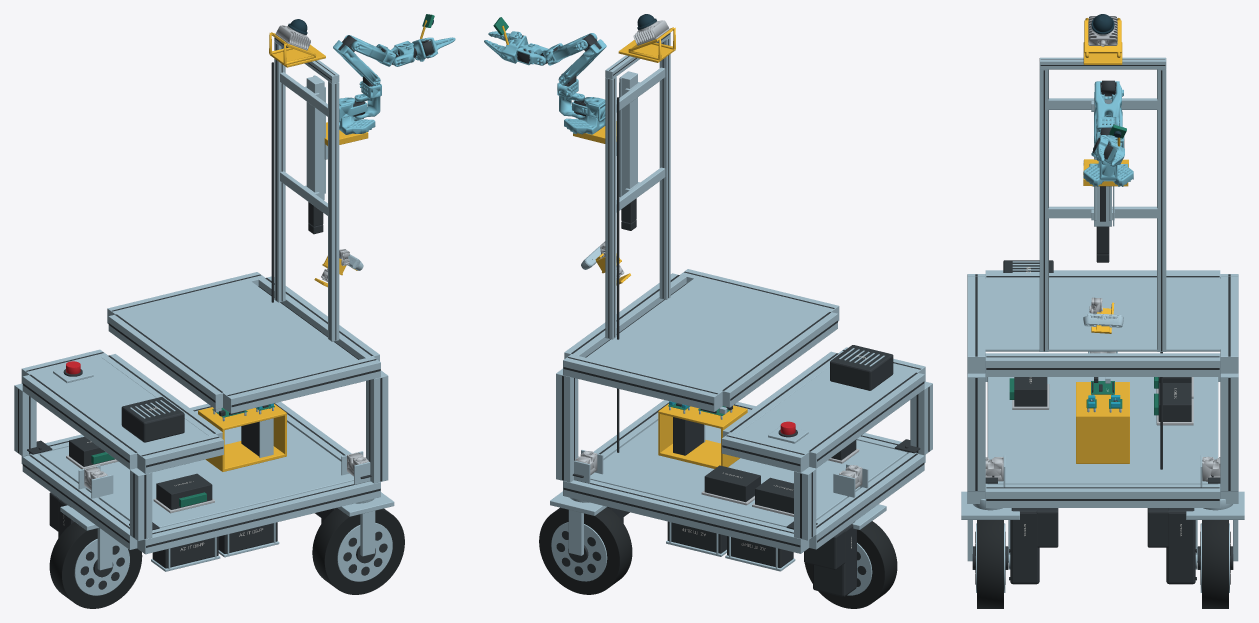
File: robot_web.glb
3 views of the same model, side by side, from view 1: azimuth 30°, elevation 25°; view 2: azimuth 150°, elevation 25°; view 3: azimuth 270°, elevation 25° (orthographic). The views are drawn at different scales.
Parts seen in each view (by area): view 1: Forward equipment deck, Base tray, 4040_horizontal, Rear electrical deck, Tire.001, 4040_horizontal.004, Tire.002, 2020_front_support, 4040_cross.004, 4040_cross, 2020_front_support.001, 4040_cross.002 (+29 smaller); view 2: Forward equipment deck, Base tray, Rear electrical deck, 4040_horizontal.001, Tire, 4040_horizontal.005, 2020_front_support.001, 4040_cross.004, 4040_cross, 2020_front_support, Tire.002, 4040_cross.002 (+29 smaller); view 3: Base tray, Forward equipment deck, 4040_cross.005, 4040_cross.001, 2020_front_support, 2020_front_support.001, Tire, Tire.001, Printed common Lift side.001, 4040_upright.002, 4040_upright.003, GFS5G30FR metal housing (+33 smaller).
Part boxes in pixels (x1,y1,x2,y2): Forward equipment deck: (119, 281, 357, 391); Base tray: (40, 422, 353, 527); 4040_horizontal: (137, 481, 380, 554); Rear electrical deck: (30, 357, 208, 455); Tire.001: (312, 508, 404, 594); 4040_horizontal.004: (223, 356, 380, 413); Tire.002: (49, 522, 142, 608); 2020_front_support: (328, 81, 339, 341); 4040_cross.004: (108, 313, 229, 409); 4040_cross: (22, 454, 137, 549); 2020_front_support.001: (274, 42, 285, 302); 4040_cross.002: (22, 374, 143, 469); Forward equipment deck: (586, 278, 826, 390); Base tray: (590, 420, 907, 527); Rear electrical deck: (737, 366, 918, 453); 4040_horizontal.001: (563, 479, 809, 553); Tire: (539, 507, 632, 594); 4040_horizontal.005: (563, 354, 722, 411); 2020_front_support.001: (605, 76, 616, 339); 4040_cross.004: (719, 310, 837, 407); 4040_cross: (809, 452, 924, 549); 2020_front_support: (659, 37, 670, 299); Tire.002: (804, 521, 897, 608); 4040_cross.002: (809, 371, 924, 468); Base tray: (987, 377, 1218, 484); Forward equipment deck: (985, 278, 1220, 351); 4040_cross.005: (985, 353, 1220, 376); 4040_cross.001: (985, 484, 1220, 507); 2020_front_support: (1039, 69, 1048, 351); 2020_front_support.001: (1157, 69, 1166, 351); Tire: (1202, 520, 1228, 608); Tire.001: (977, 520, 1003, 608); Printed common Lift side.001: (1076, 417, 1129, 461); 4040_upright.002: (967, 373, 985, 491); 4040_upright.003: (1220, 373, 1238, 491); GFS5G30FR metal housing: (1166, 508, 1195, 584).
Size of the model in its own units: 1.12 by 1.43 by 0.6278.
